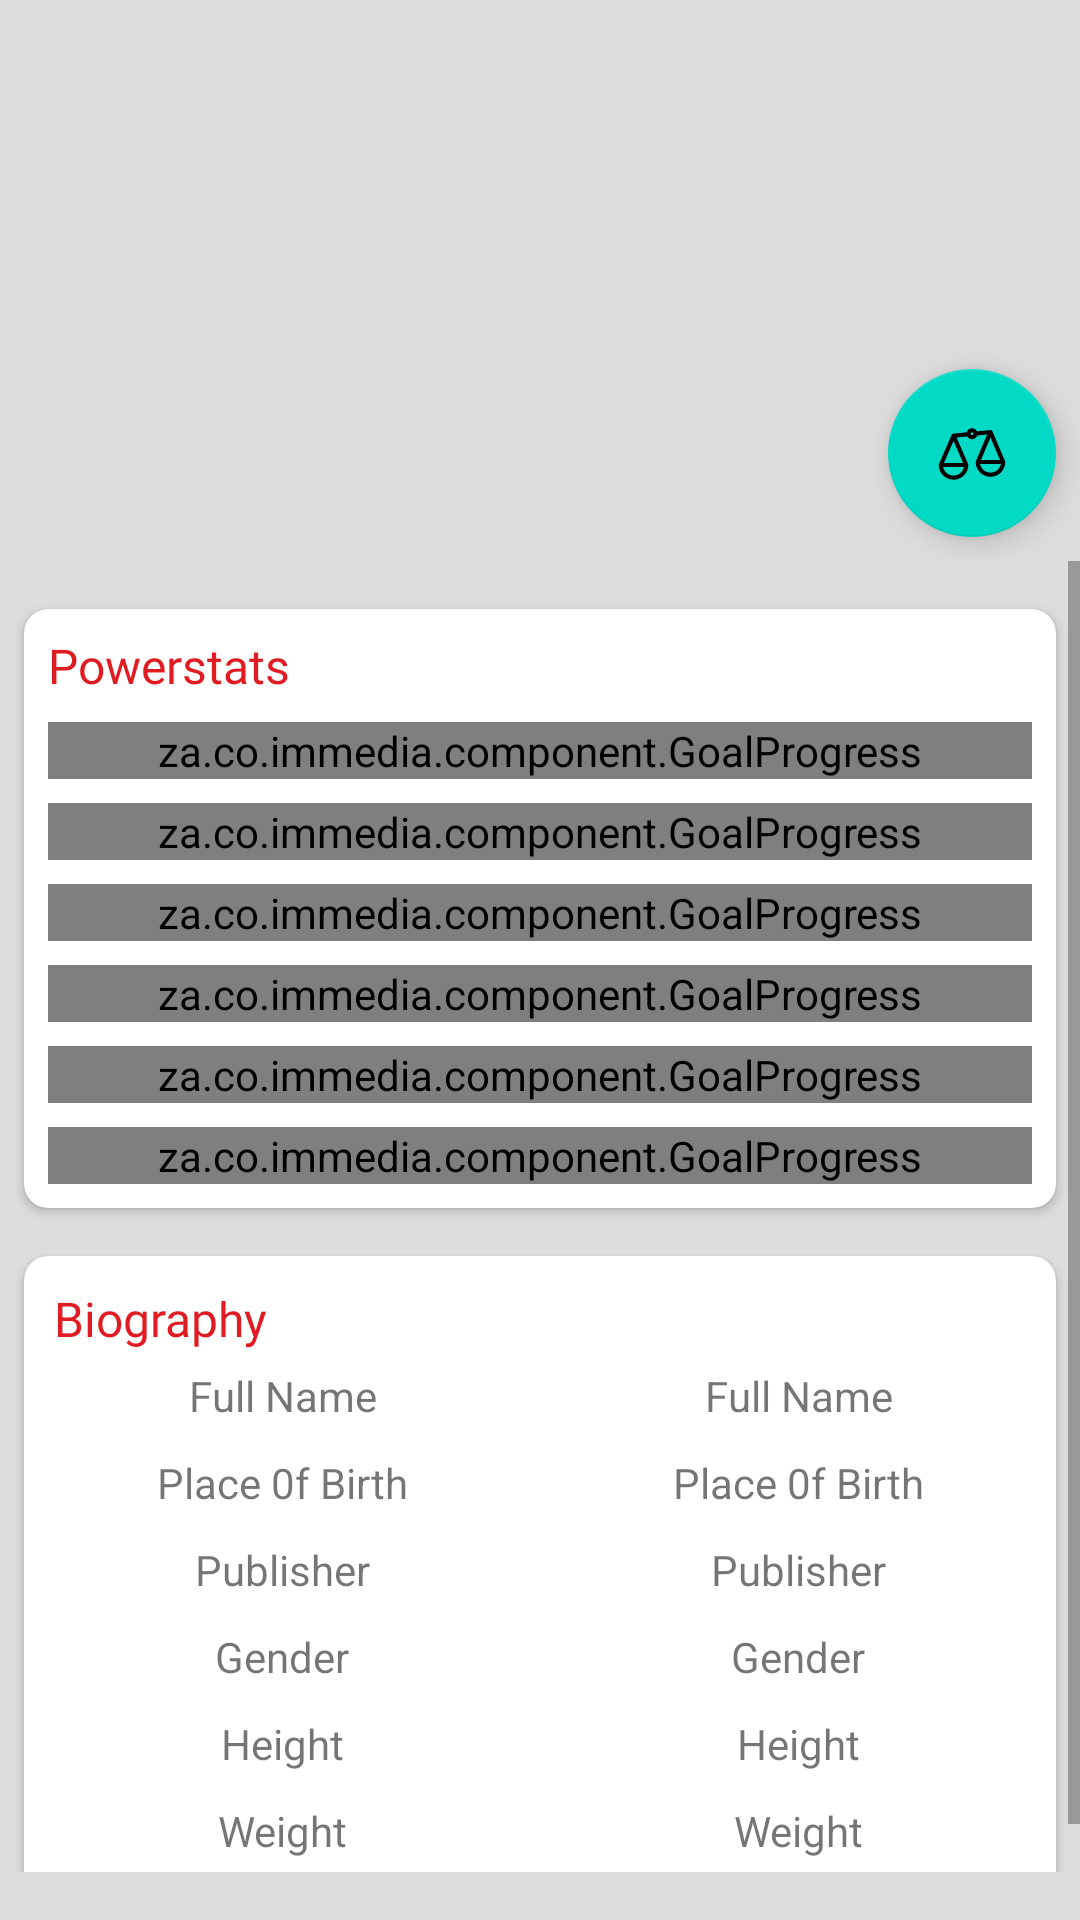

Icons on this 1080 x 1920 Android screen, each with the point to tap as (x=x, y=y):
compare hero: (x=972, y=453)
